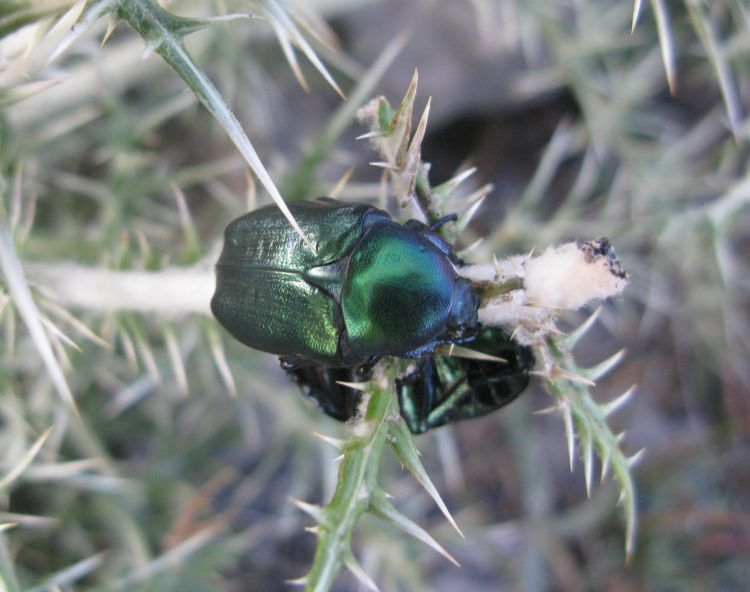Protaetia_angustata_angustata: (203, 185, 495, 433)
